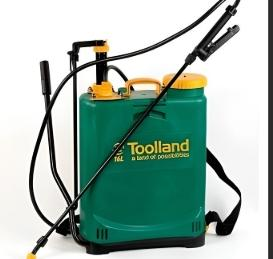PULVERISATEUR: (15, 6, 273, 259)
